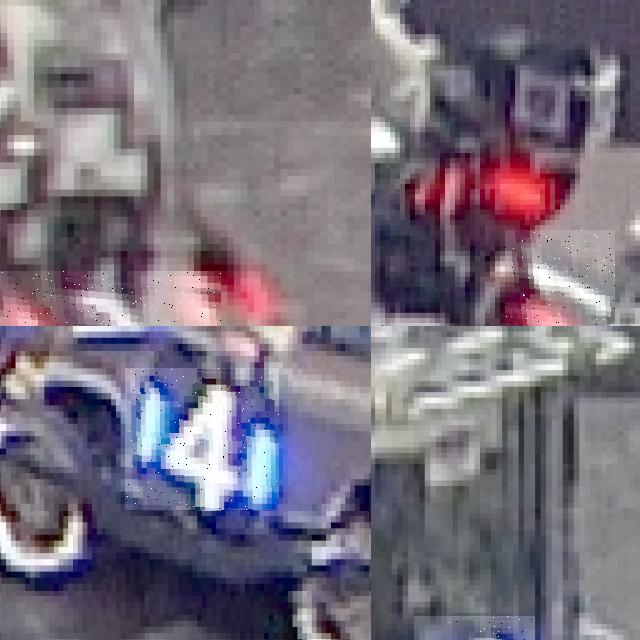B2: (413, 615, 535, 640)
B4: (125, 368, 279, 510)
R1: (0, 271, 220, 326), (505, 230, 615, 326)
